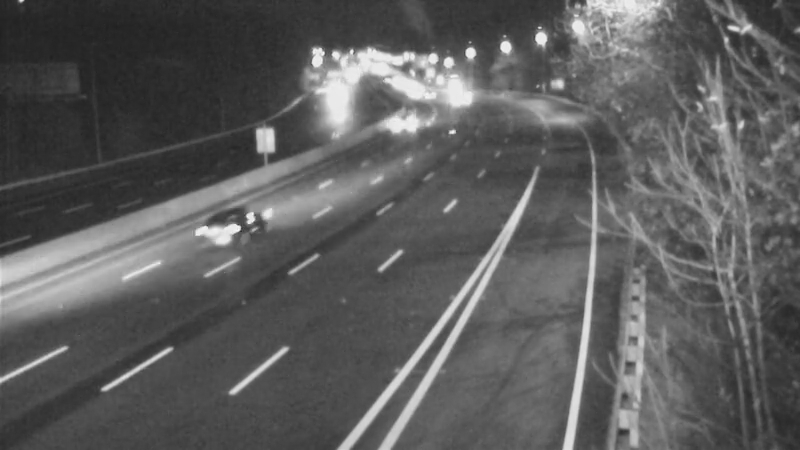vehicle: (179, 193, 259, 273), (429, 63, 479, 113), (397, 71, 447, 121), (389, 99, 439, 149), (304, 84, 354, 134)
